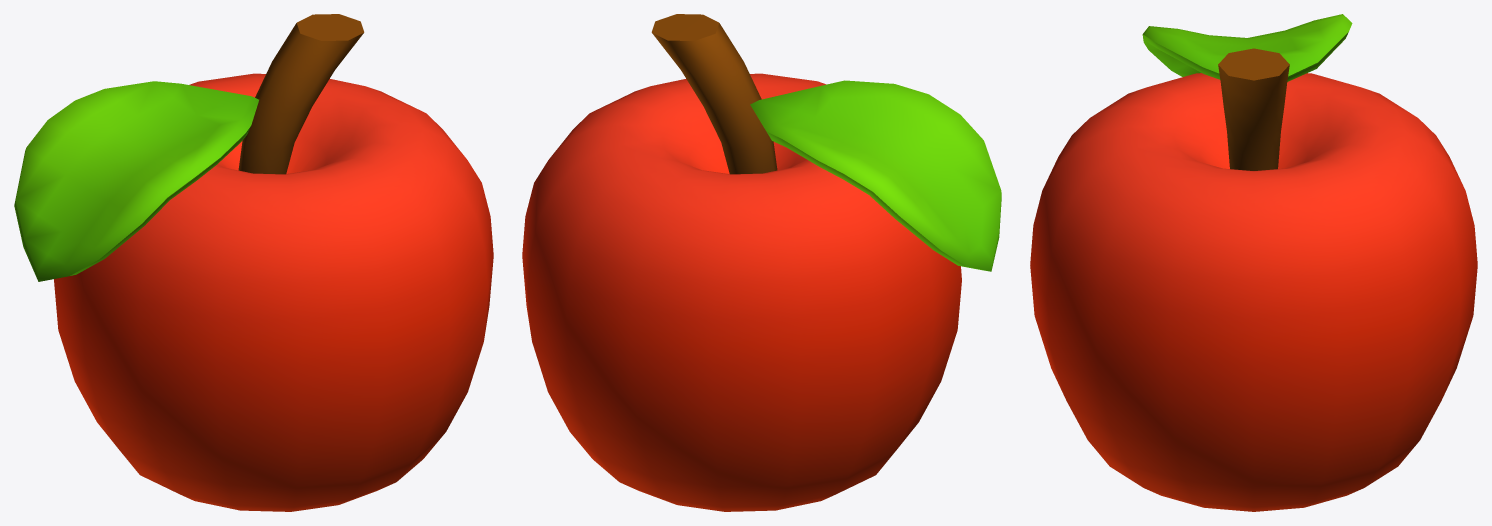
Rendered from Farm_Tree_Product_Apple_01.glb.
The picture shows the model from 3 angles, left to right: view 1: azimuth 30°, elevation 25°; view 2: azimuth 150°, elevation 25°; view 3: azimuth 270°, elevation 25°; orthographic projection.
Visible parts, largest first — view 1: Farm_Tree_Product_Apple_01; view 2: Farm_Tree_Product_Apple_01; view 3: Farm_Tree_Product_Apple_01.
Boxes of the visible parts, x1,y1,x2,y2 form: Farm_Tree_Product_Apple_01: [14, 14, 493, 511]; Farm_Tree_Product_Apple_01: [522, 14, 1001, 511]; Farm_Tree_Product_Apple_01: [1030, 14, 1477, 511].
Size of the model in its own units: 0.3247 by 0.3025 by 0.2866.
1 material, 1 textured.
